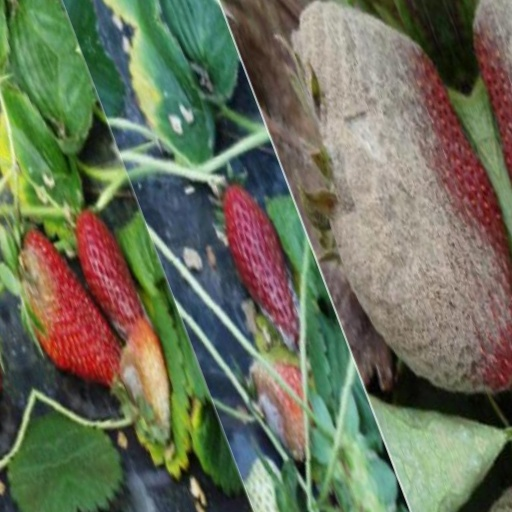Gray Mold: (333, 38, 504, 471), (81, 272, 136, 402), (206, 354, 247, 463)
